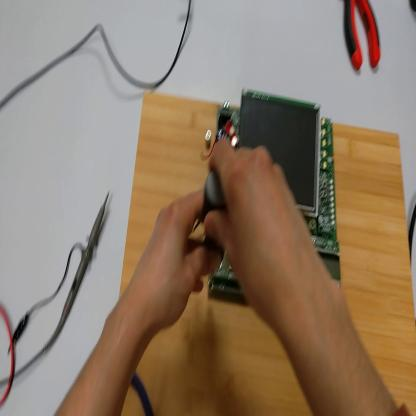hand: (206, 140, 315, 322), (136, 191, 222, 335)
low voltage board: (206, 94, 340, 303)
oscilloscope probe tip: (55, 190, 112, 340)
pliers: (343, 2, 382, 76), (130, 376, 155, 414)
screwdriver-: (201, 175, 224, 294)
working area: (119, 90, 416, 415)
